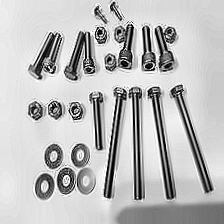good: (1, 1, 224, 224)
